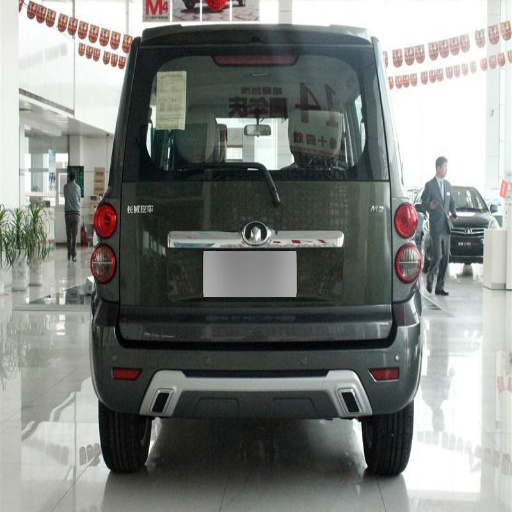back_bumper: (91, 283, 421, 417)
trunk: (116, 181, 400, 345)
